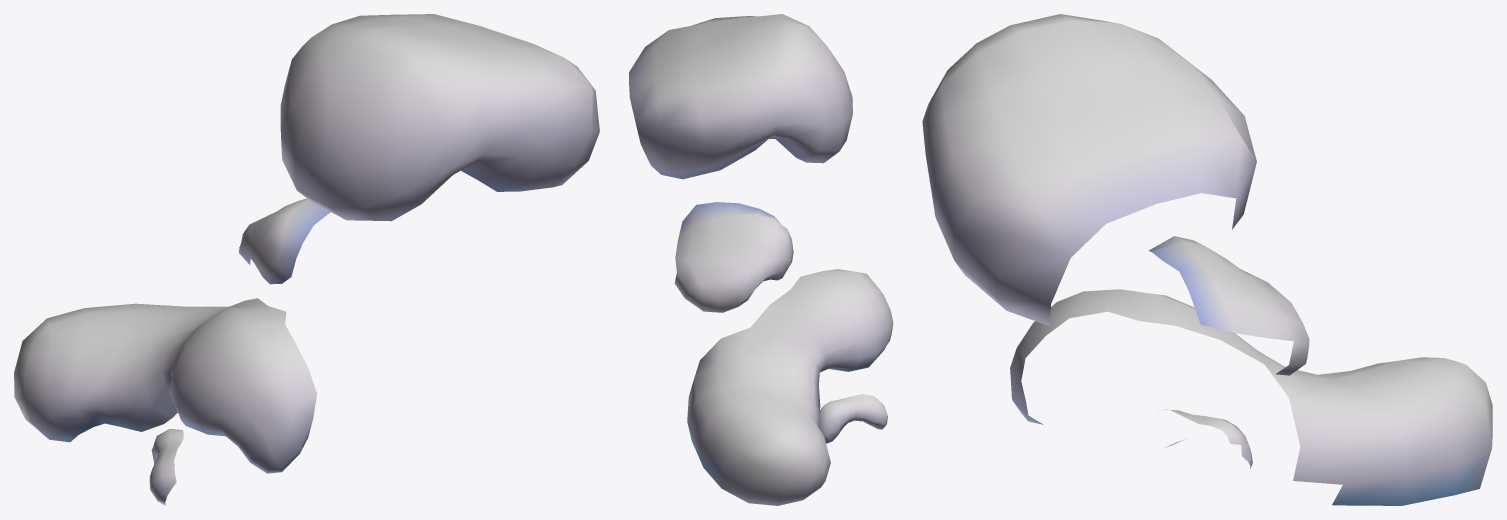
The model's file is TownMountainSnow.glb.
3 renders of one model, left to right at view 1: azimuth 30°, elevation 25°; view 2: azimuth 150°, elevation 25°; view 3: azimuth 270°, elevation 25°, orthographic. The views are drawn at different scales.
Parts seen in each view (by area): view 1: TownMountainSnow; view 2: TownMountainSnow; view 3: TownMountainSnow.
Part boxes in pixels (x1,y1,x2,y2): TownMountainSnow: (14, 14, 599, 505); TownMountainSnow: (629, 14, 893, 505); TownMountainSnow: (922, 14, 1492, 505).
Bounding box in the file's own units: 19.69 × 22.1 × 20.66.
